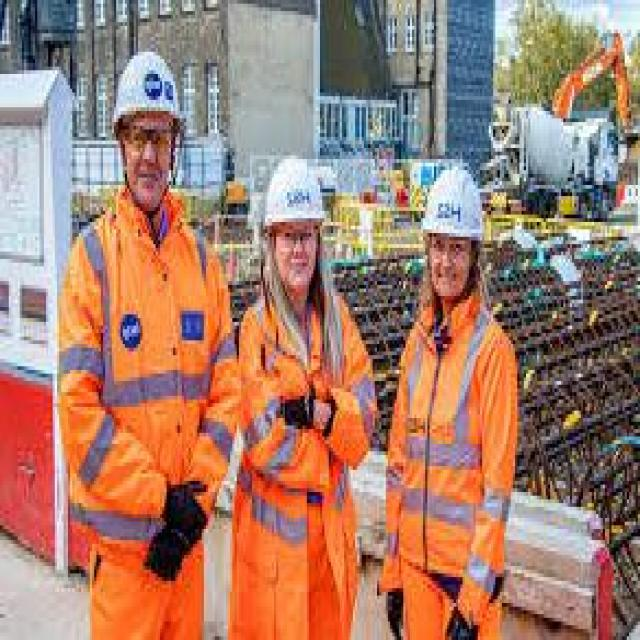Reflective-Jacket: (62, 200, 224, 581), (382, 288, 520, 592), (228, 288, 364, 596)
Safety-Helmet: (414, 152, 491, 255), (108, 37, 188, 133), (258, 140, 328, 240)
